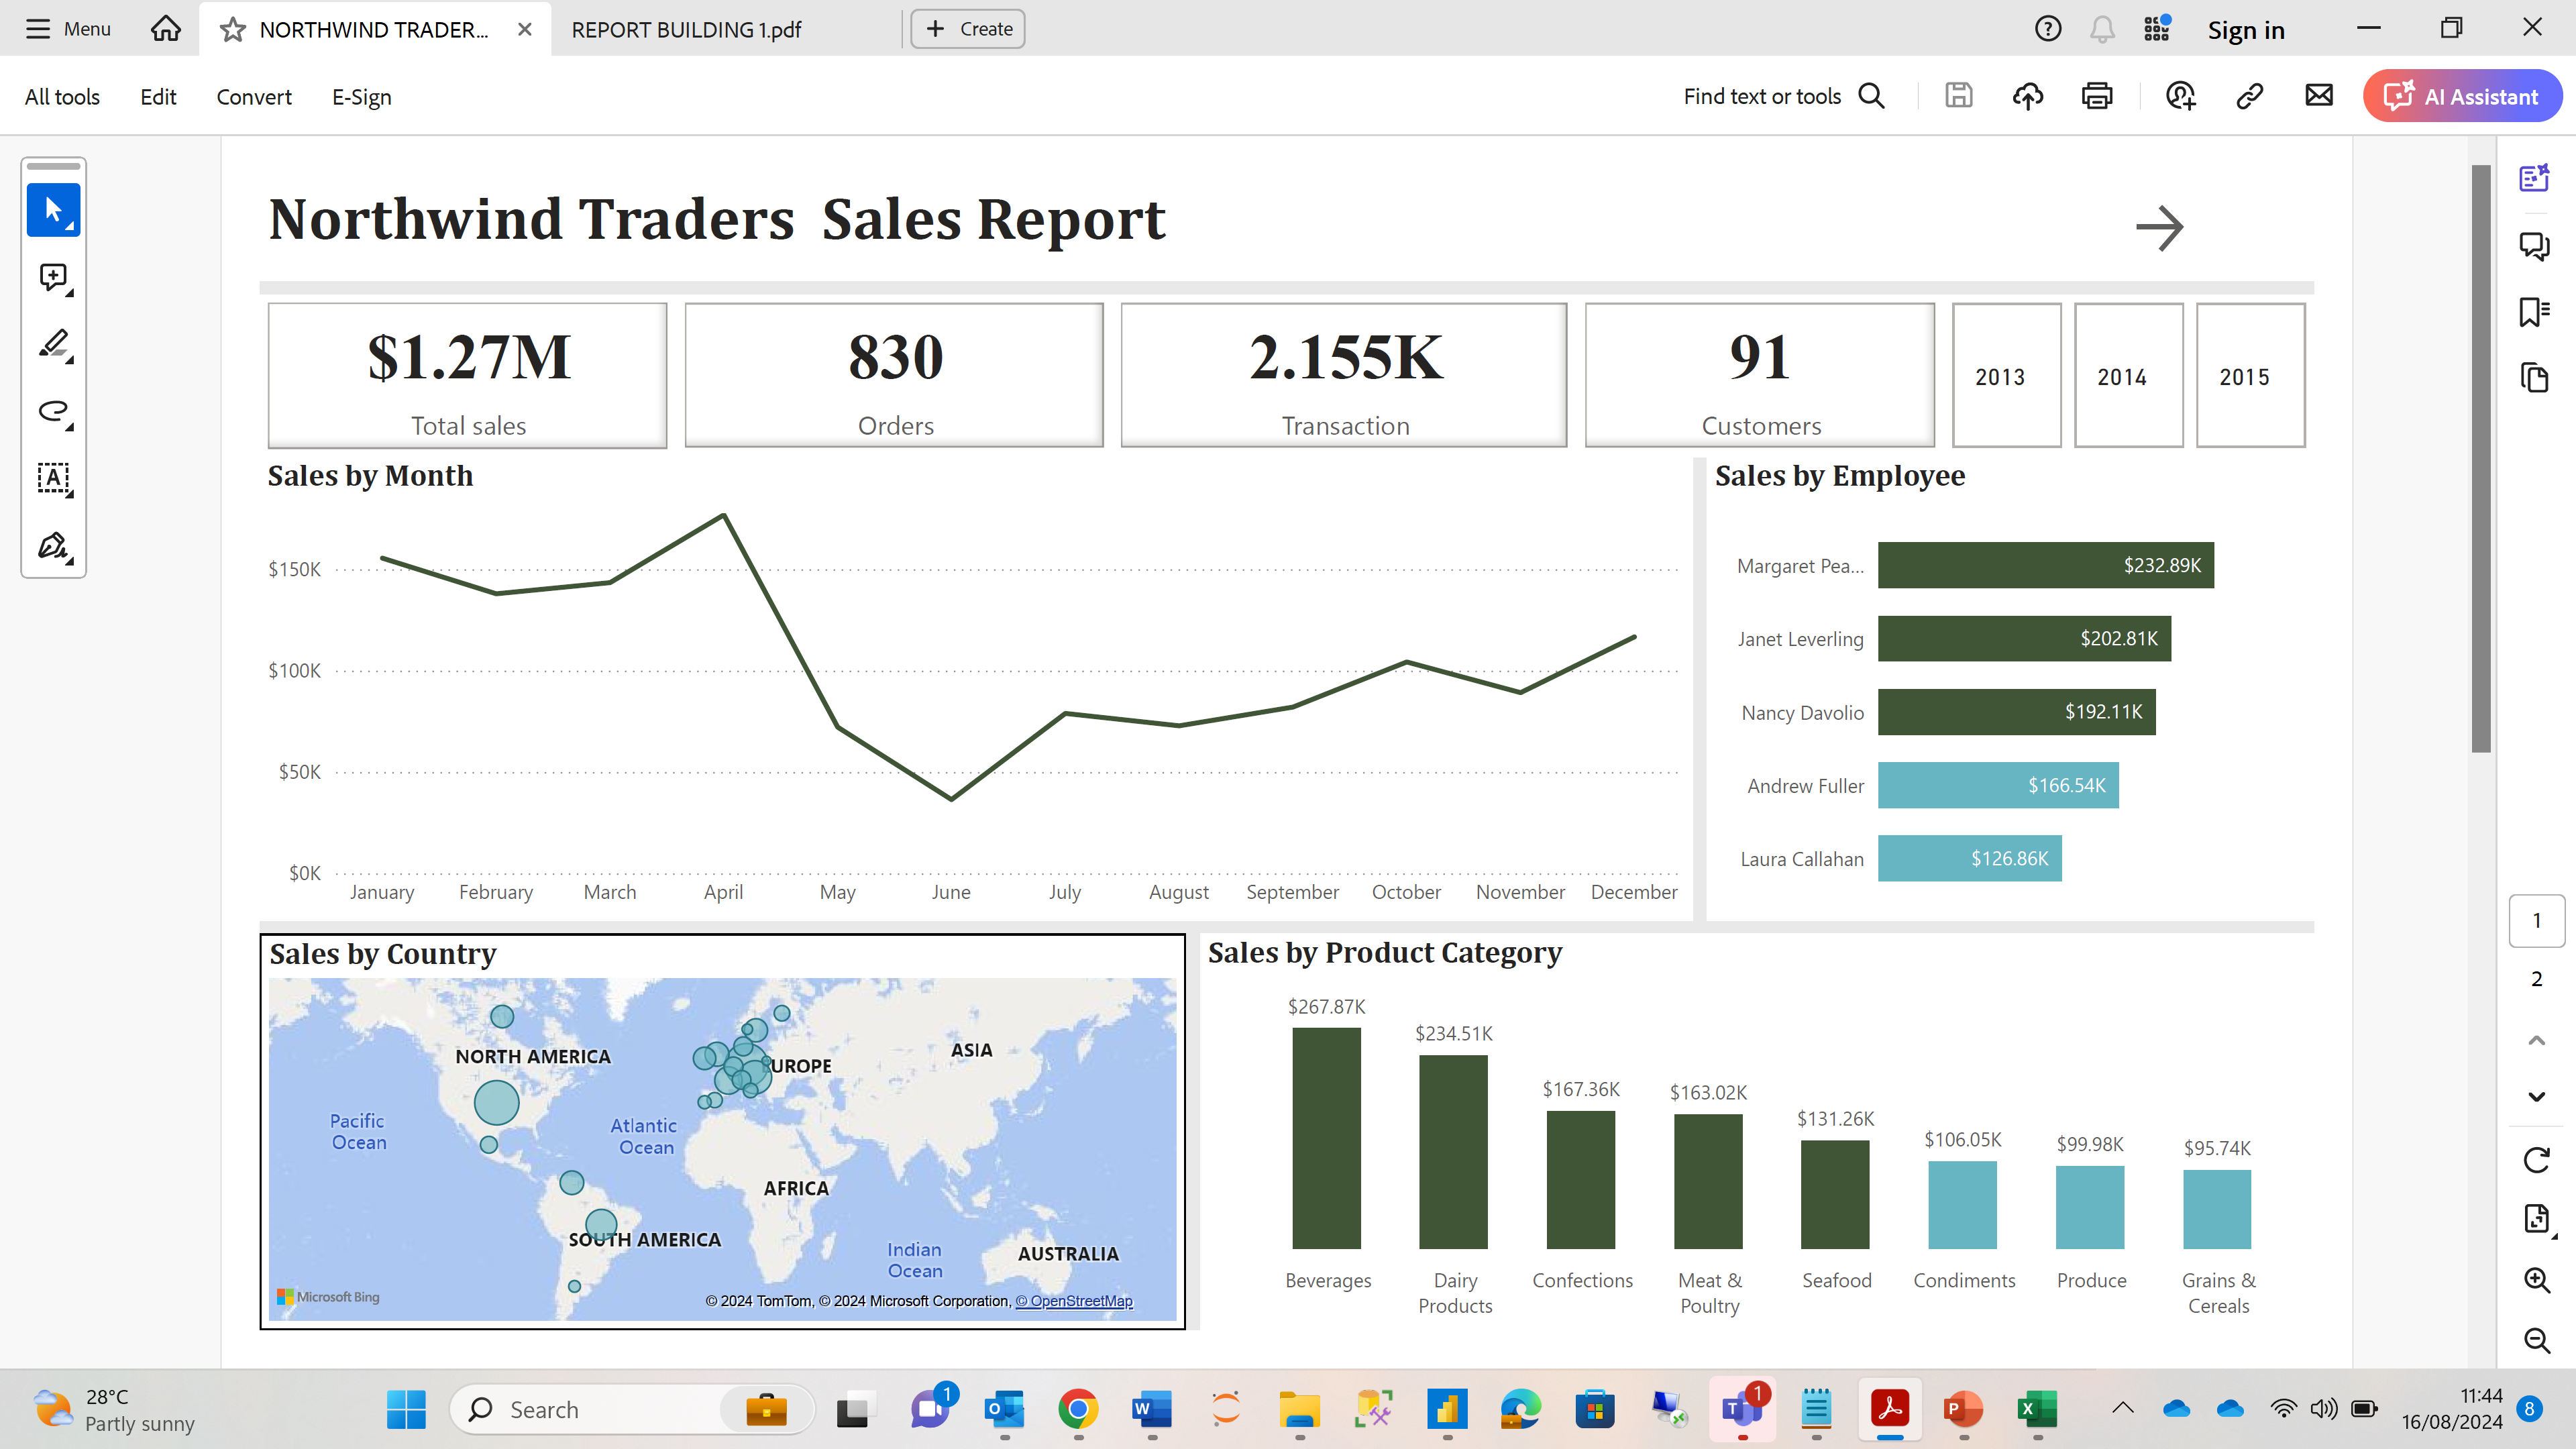

This screenshot's page, from the dashboard's own definition file:
{"tool":"powerbi","page":{"name":"Sales Report","canvas":[1280,720],"ordinal":0},"visuals":[{"type":"textbox","box":[0,0,1280.3,66],"z":0},{"type":"cardVisual","fields":{"Data":["order_details.Product ID"]},"box":[531.9,75.4,288.7,101],"z":1000},{"type":"cardVisual","fields":{"Data":["order_details.Order ID"]},"box":[260.3,75.4,271.6,101],"z":2000},{"type":"cardVisual","fields":{"Data":["order_details.Total Price (after Discount)"]},"box":[0,74.8,259.8,101.4],"z":3000},{"type":"cardVisual","fields":{"Data":["customers.Contact Name"]},"box":[820.6,75.4,229,101],"z":4000},{"type":"lineChart","title":"Sales by Month","fields":{"Y":["order_details.Total Price (after Discount)"],"Category":["orders.Order Date.Variation.Date Hierarchy.Month"]},"box":[0,176.2,893.5,288.3],"z":5000},{"type":"clusteredColumnChart","title":"Sales by Product Category","fields":{"Category":["categories.Category Name"],"Y":["order_details.Total Price (after Discount)"]},"box":[585.8,473.2,694,246.7],"z":6000},{"type":"map","title":"Sales by Country","fields":{"Size":["order_details.Total Price (after Discount)"],"Category":["customers.Country"]},"box":[0,473.2,577.1,246.7],"z":7000},{"type":"barChart","fields":{"Y":["order_details.Total Price (after Discount)"],"Category":["employees.Employee Name"]},"box":[902.5,176.1,377.9,288.6],"z":8000},{"type":"advancedSlicerVisual","fields":{"Values":["orders.Order Date.Variation.Date Hierarchy.Year"]},"box":[1049.6,75.4,230.4,101],"z":9000},{"type":"actionButton","box":[1164,14.2,99.7,39.2],"z":10000}]}

Visuals, with their boxes on the page's 1280x720 design canvas (x1, y1, x2, y2). These are canvas units, not pixel positions in the 2576x1449 screenshot, which may show the page scaled, cropped or inside an application window:
textbox: l=0, t=0, r=1280, b=66
cardVisual - order_details.Product ID: l=532, t=75, r=821, b=176
cardVisual - order_details.Order ID: l=260, t=75, r=532, b=176
cardVisual - order_details.Total Price (after Discount): l=0, t=75, r=260, b=176
cardVisual - customers.Contact Name: l=821, t=75, r=1050, b=176
"Sales by Month" lineChart: l=0, t=176, r=894, b=464
"Sales by Product Category" clusteredColumnChart: l=586, t=473, r=1280, b=720
"Sales by Country" map: l=0, t=473, r=577, b=720
barChart - order_details.Total Price (after Discount) x employees.Employee Name: l=902, t=176, r=1280, b=465
advancedSlicerVisual - orders.Order Date.Variation.Date Hierarchy.Year: l=1050, t=75, r=1280, b=176
actionButton: l=1164, t=14, r=1264, b=53
